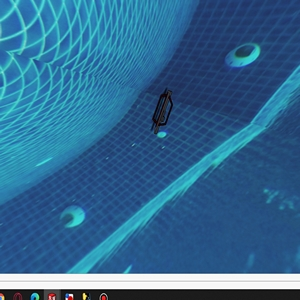submarine: (156, 91, 173, 136)
